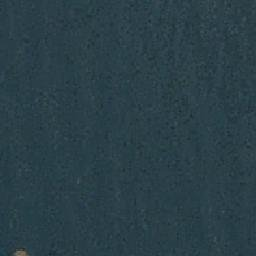debris: (13, 247, 29, 256)
